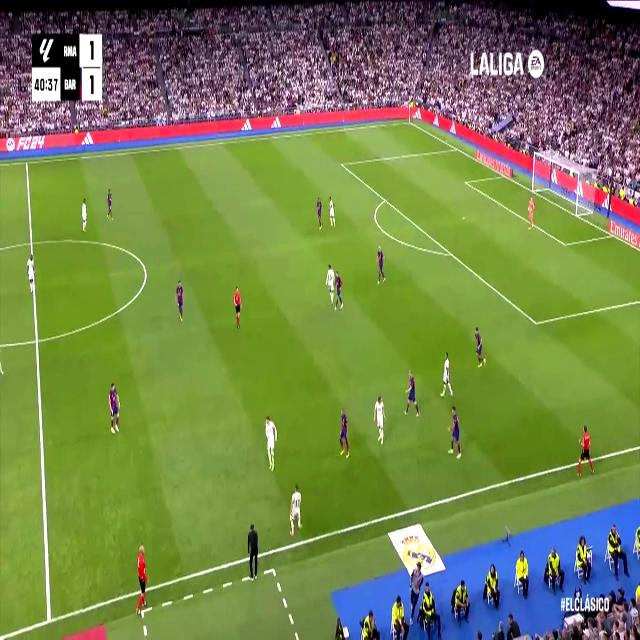bigarea_bottom_inner: (532, 311, 540, 333)
bigarea_top_inner: (340, 158, 344, 170)
bigarea_top_outter: (454, 143, 461, 153)
bottom_arc_area_intersection: (446, 246, 454, 260)
corner: (406, 116, 412, 126)
halfcircle_bottom: (32, 328, 42, 352)
halfcircle_top: (26, 233, 36, 252)
midline_bottom_intersection: (41, 606, 57, 630)
midline_top_intersection: (24, 157, 30, 168)
smallarea_bottom_inner: (562, 238, 568, 251)
smallarea_top_inner: (464, 178, 468, 185)
top_arc_area_intersection: (382, 191, 388, 205)
